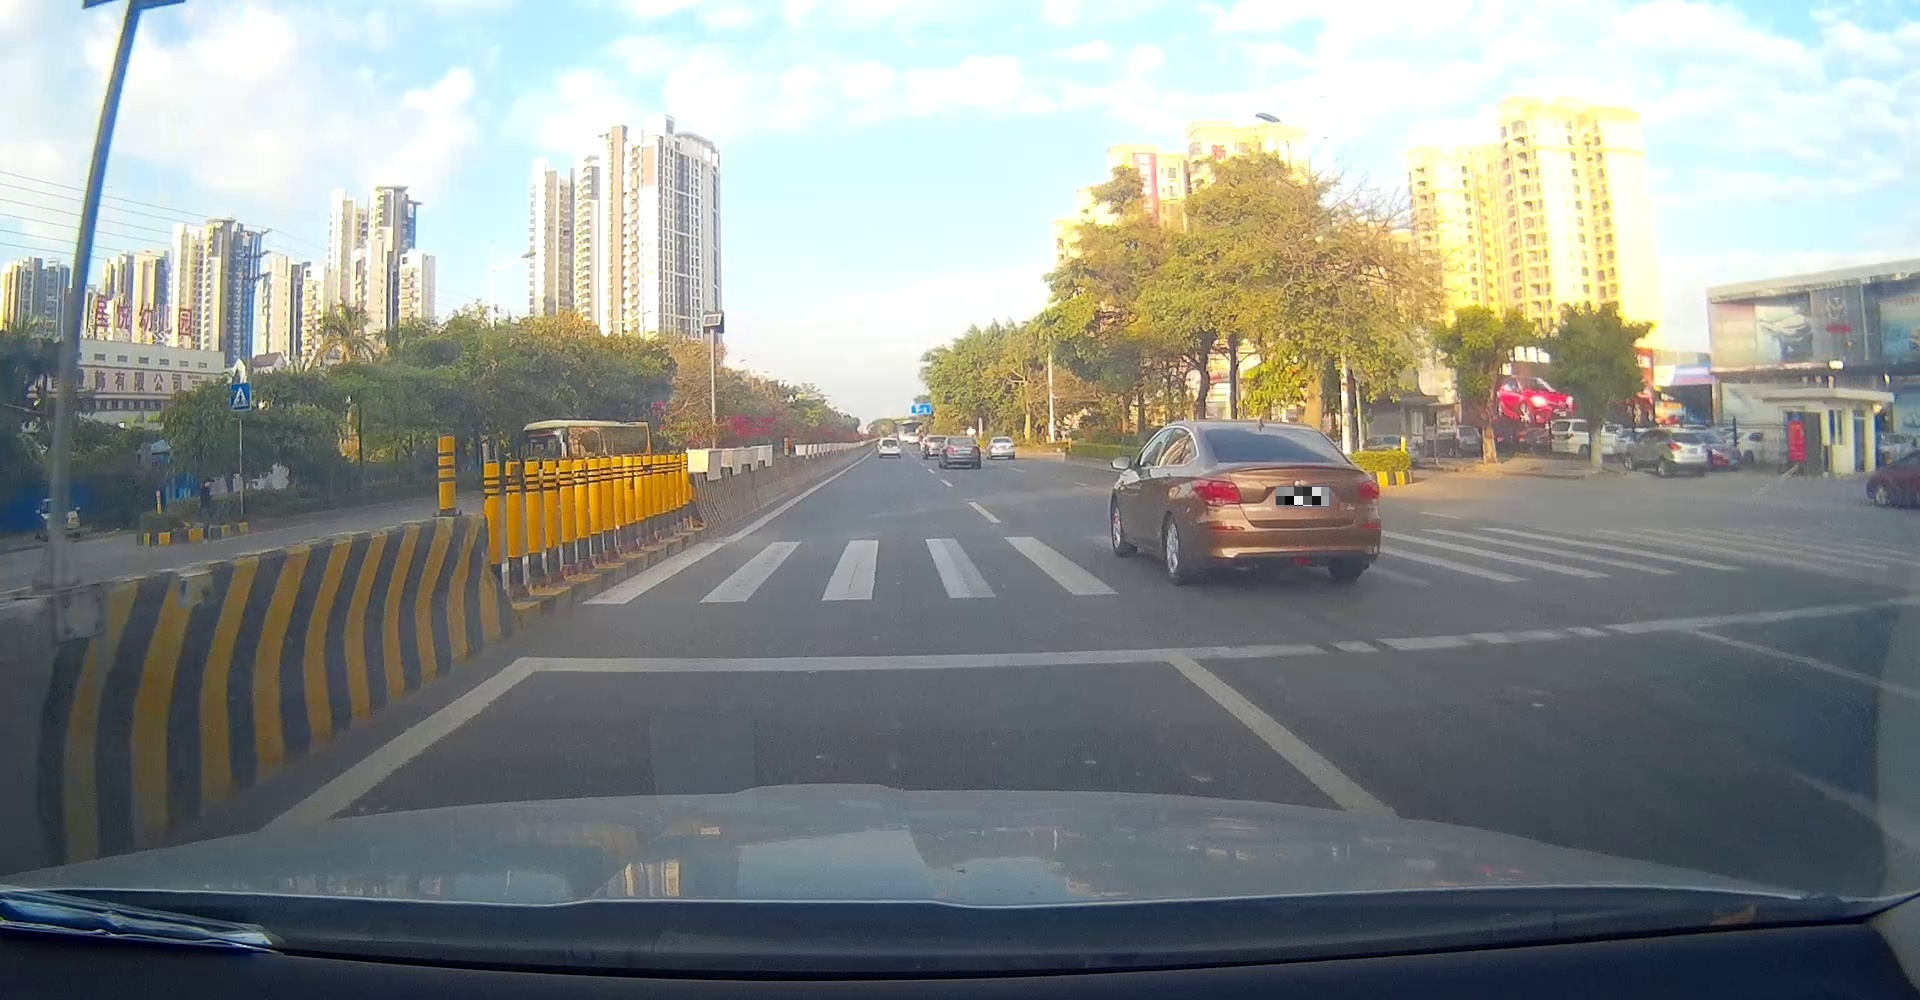L_light: (1189, 477, 1241, 505), (945, 447, 954, 453), (879, 445, 883, 449), (990, 445, 996, 447)
R_light: (1357, 478, 1380, 503), (971, 447, 979, 452), (897, 445, 900, 449), (1010, 445, 1015, 448)
T_light: (1271, 456, 1302, 462), (960, 438, 965, 439), (888, 440, 891, 442), (1001, 439, 1004, 440)
day-no: (1186, 420, 1382, 588), (943, 437, 982, 470), (990, 437, 1015, 459), (877, 438, 902, 458)
plate_1: (1276, 487, 1330, 506)
